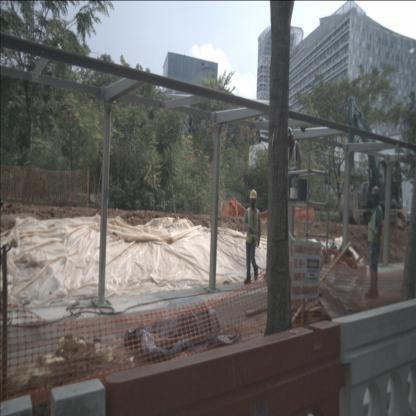barrier: (106, 320, 347, 416), (331, 298, 415, 415)
